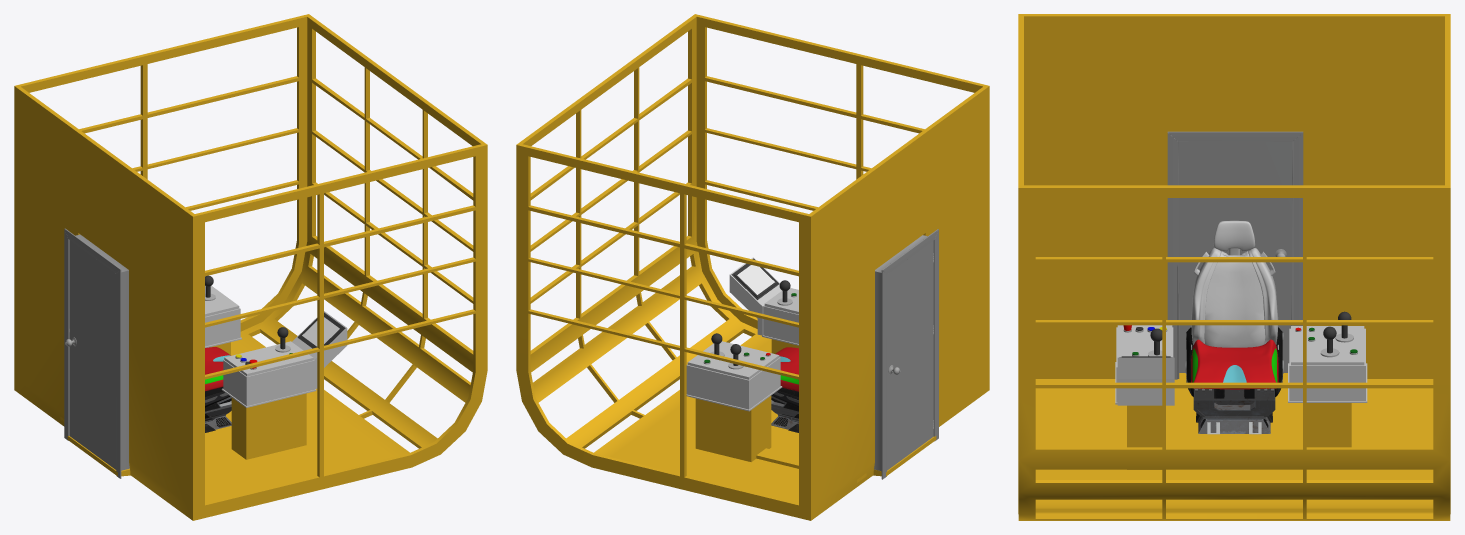
File: Cabine_test.fbx
3 views of the same model, side by side, from view 1: azimuth 30°, elevation 25°; view 2: azimuth 150°, elevation 25°; view 3: azimuth 270°, elevation 25° (orthographic). The views are drawn at different scales.
Parts seen in each view (by area): view 1: Cube.013, Cylinder.023, Cube.021, Cylinder.024, Cube.019, ass seat_low.001, seat base.001; view 2: Cube.013, Cylinder.023, Cube.019, Cylinder.024, Cube.021, ass seat_low.001, Cube.022, seat base.001; view 3: Cube.013, Cylinder.023, Cube.019, Cylinder.024, Cube.021, basck rest_low.001, seat base.001, ass seat_low.001, zijbar rug_low.001, head rest.001.
Part boxes in pixels (x1,y1,x2,y2): Cube.013: [14, 14, 487, 520]; Cylinder.023: [65, 240, 116, 469]; Cube.021: [221, 311, 347, 459]; Cylinder.024: [64, 228, 129, 478]; Cube.019: [60, 285, 241, 422]; ass seat_low.001: [205, 347, 230, 391]; seat base.001: [205, 396, 231, 429]; Cube.013: [516, 14, 989, 520]; Cylinder.023: [887, 240, 933, 470]; Cube.019: [686, 341, 866, 482]; Cylinder.024: [874, 229, 938, 479]; Cube.021: [729, 257, 798, 353]; ass seat_low.001: [775, 347, 798, 391]; Cube.022: [737, 265, 774, 294]; seat base.001: [771, 396, 798, 429]; Cube.013: [1018, 14, 1450, 520]; Cylinder.023: [1179, 141, 1292, 372]; Cube.019: [1288, 326, 1367, 447]; Cylinder.024: [1167, 131, 1303, 379]; Cube.021: [1115, 325, 1174, 469]; basck rest_low.001: [1204, 255, 1265, 347]; seat base.001: [1193, 388, 1275, 434]; ass seat_low.001: [1191, 339, 1278, 389]; zijbar rug_low.001: [1191, 247, 1278, 344]; head rest.001: [1213, 220, 1255, 251].
Bounding box in the file's own units: 312 × 291 × 308.
